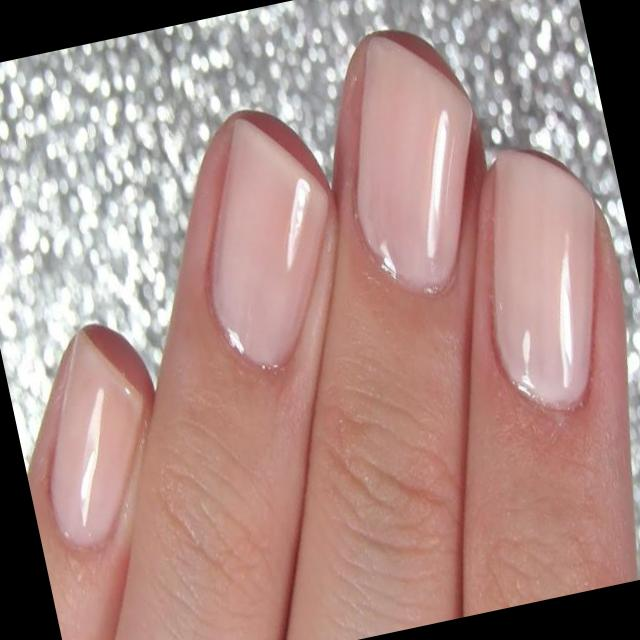Nail: (353, 34, 471, 291), (212, 117, 328, 368), (488, 151, 592, 407), (51, 336, 147, 545)
